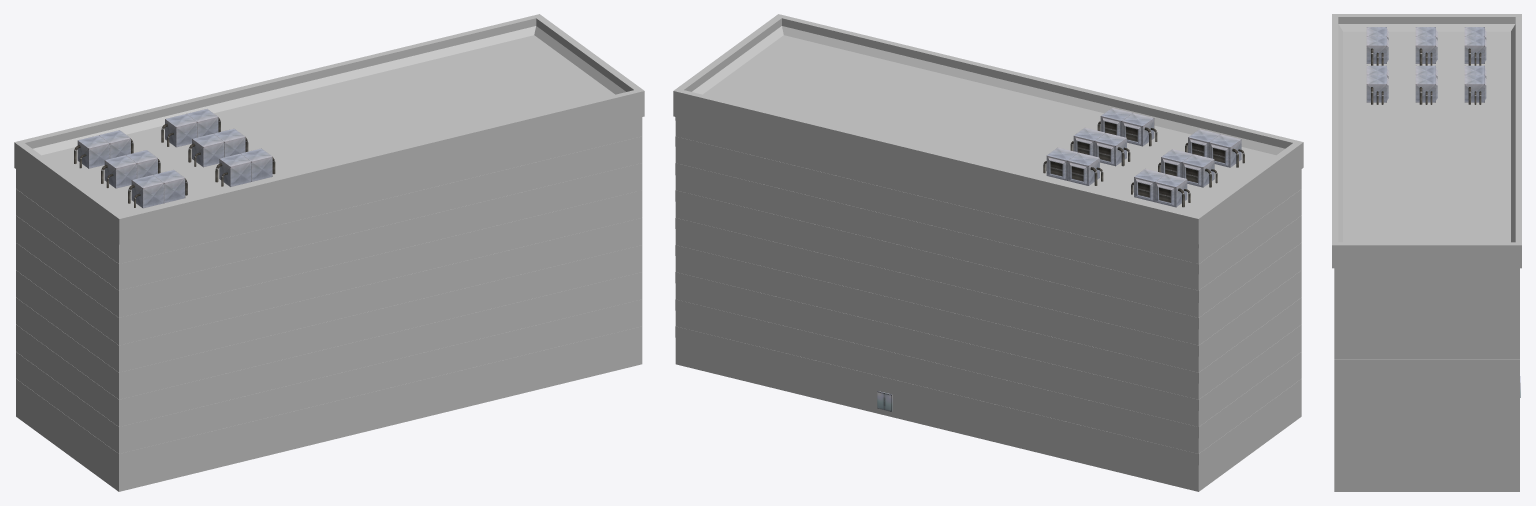
Rendered from Building_03.FBX.
3 renders of one model, left to right at view 1: azimuth 30°, elevation 25°; view 2: azimuth 150°, elevation 25°; view 3: azimuth 270°, elevation 25°, orthographic. The views are drawn at different scales.
Parts seen in each view (by area): view 1: Box116; view 2: Box116; view 3: Box116.
Part boxes in pixels (x1,y1,x2,y2): Box116: [14, 14, 644, 491]; Box116: [673, 14, 1303, 491]; Box116: [1332, 14, 1521, 491].
Bounding box in the file's own units: 108 × 54.91 × 37.32.
